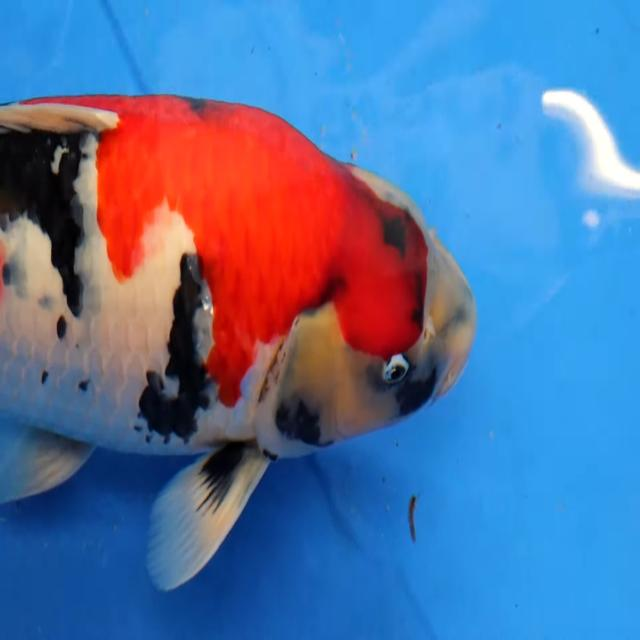Showa: (0, 91, 478, 592)
